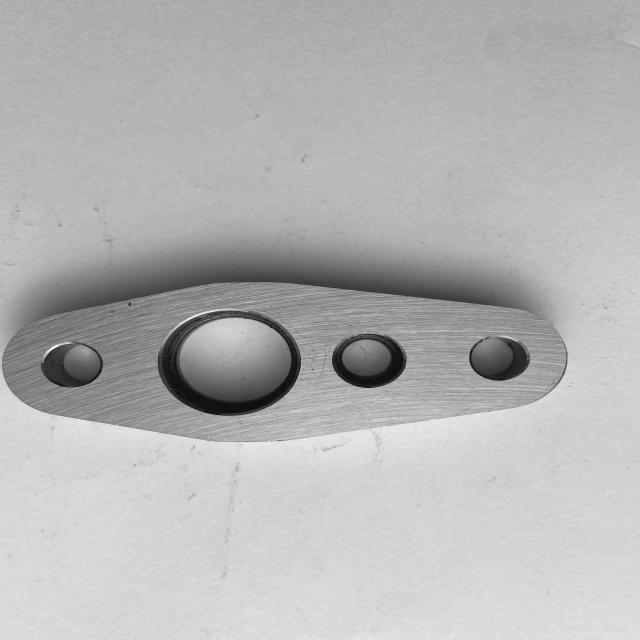chap: (126, 302, 135, 308), (348, 322, 354, 328)
lines: (316, 334, 328, 384), (104, 308, 120, 316)
